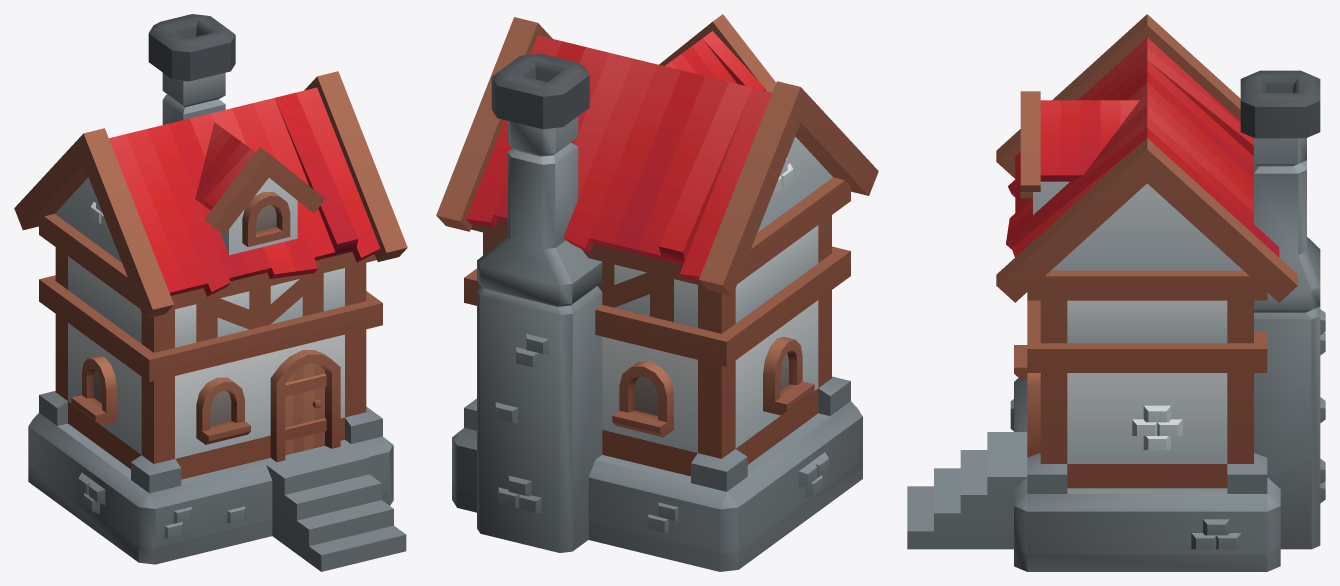
Rendered from kk_home_b_v1.glb.
3 views of the same model, side by side, from view 1: azimuth 30°, elevation 25°; view 2: azimuth 150°, elevation 25°; view 3: azimuth 270°, elevation 25° (orthographic). The views are drawn at different scales.
Parts seen in each view (by area): view 1: building_home_B_red; view 2: building_home_B_red; view 3: building_home_B_red.
Boxes of the visible parts, x1,y1,x2,y2 form: building_home_B_red: [14, 14, 407, 571]; building_home_B_red: [436, 14, 878, 571]; building_home_B_red: [907, 14, 1325, 571].
Bounding box in the file's own units: 0.8749 × 1.28 × 1.1.
1 material, 1 textured.
